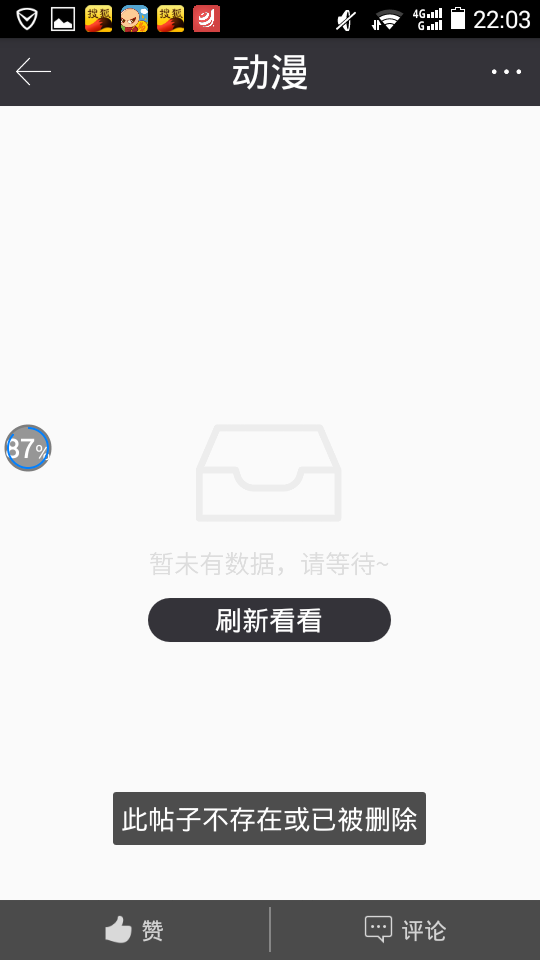alert: (104, 782, 435, 852)
button: (7, 903, 265, 960), (281, 902, 540, 957), (140, 594, 399, 646)
